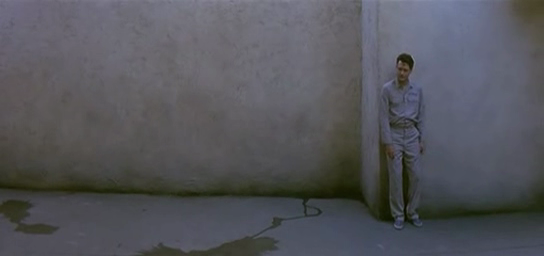face: (396, 60, 411, 82)
ls: (1, 1, 544, 256)
person: (378, 53, 425, 229)
